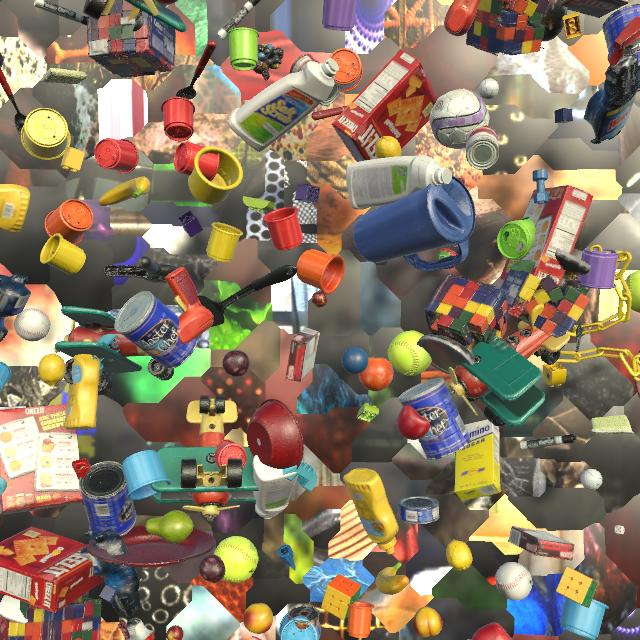ycb_002_master_chef_can: (114, 291, 198, 369), (398, 377, 471, 460), (79, 461, 136, 536), (602, 3, 640, 92)
ycb_003_cracker_box: (332, 49, 437, 162), (500, 185, 593, 287), (0, 404, 83, 515), (0, 526, 105, 613)
ycb_004_sugar_box: (455, 419, 501, 501)
ycb_005_tomato_soup_can: (289, 53, 342, 106), (466, 125, 499, 170), (288, 604, 319, 640)
ycb_006_mustard_bottle: (343, 468, 399, 554), (64, 339, 100, 430), (0, 184, 30, 233)
ycb_007_tuna_fish_can: (398, 496, 440, 524)
ycb_008_pudding_box: (508, 526, 575, 560), (285, 327, 320, 382), (561, 0, 630, 18)
ycb_009_gelatin_box: (251, 636, 261, 640)
ycb_011_banana: (99, 177, 150, 206), (375, 561, 409, 595)
ycb_012_strawberry: (436, 248, 456, 269)
ycb_013_apple: (397, 405, 430, 440), (472, 623, 512, 640)
ycb_014_lemon: (38, 353, 66, 387), (446, 539, 472, 571), (375, 136, 401, 159), (52, 550, 61, 555)
ycb_015_peach: (243, 603, 273, 634), (413, 607, 442, 637)
ycb_016_pear: (145, 510, 193, 543)
ycb_017_orange: (358, 357, 393, 391)
ycb_018_plum: (222, 350, 250, 377), (199, 555, 225, 583), (0, 53, 4, 67)
